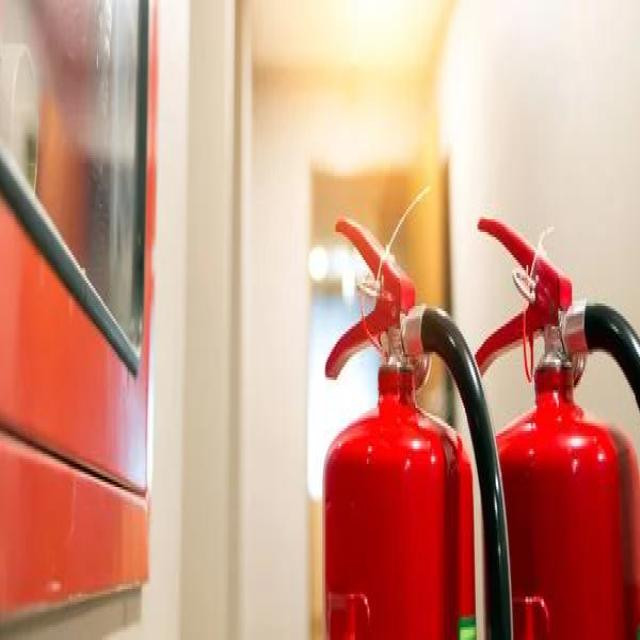fire_extinguisher: (314, 204, 523, 637), (447, 199, 638, 637)
